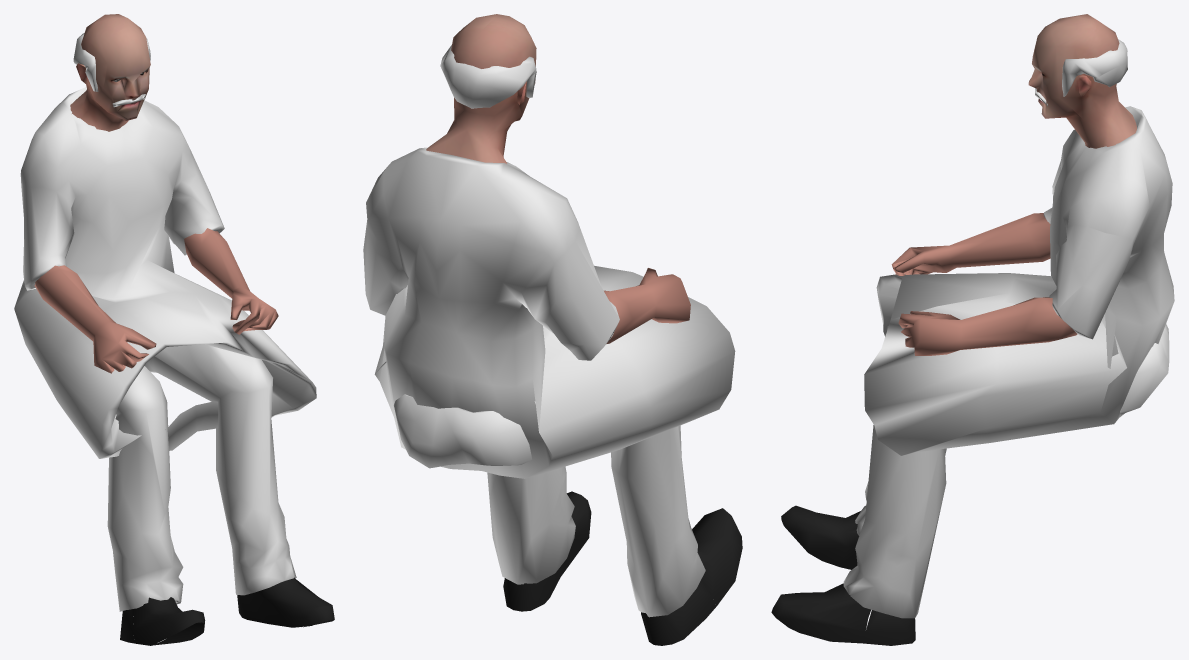
Rendered from old_man_veshti_sit.glb.
The picture shows the model from 3 angles, left to right: view 1: azimuth 30°, elevation 25°; view 2: azimuth 150°, elevation 25°; view 3: azimuth 270°, elevation 25°; orthographic projection. The views are drawn at different scales.
Parts seen in each view (by area): view 1: geometry_0; view 2: geometry_0; view 3: geometry_0.
Boxes of the visible parts, <box> form: geometry_0: <box>14,14,334,645</box>; geometry_0: <box>363,14,742,645</box>; geometry_0: <box>771,14,1174,645</box>.
Size of the model in its own units: 0.5352 by 1.31 by 0.8113.
Materials: 1 (1 with a texture image).
